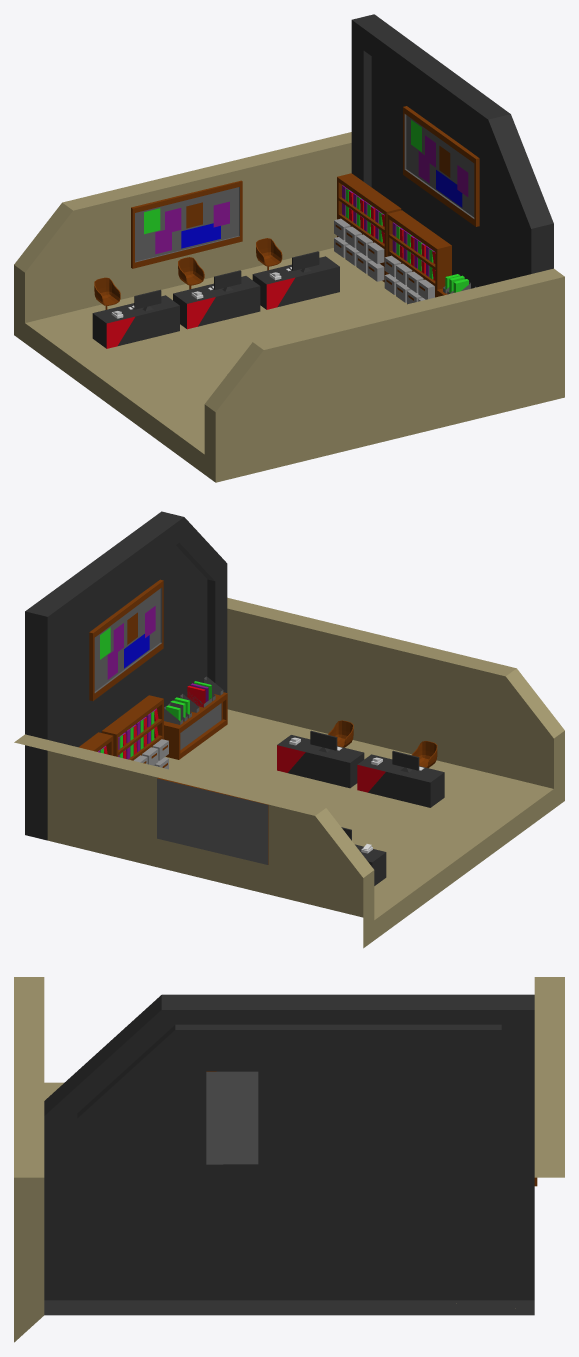
Rendered from Level5 Marketing.fbx.
The picture shows the model from 3 angles, top to bottom: view 1: azimuth 30°, elevation 25°; view 2: azimuth 150°, elevation 25°; view 3: azimuth 270°, elevation 25°; orthographic projection. The views are drawn at different scales.
Parts seen in each view (by area): view 1: Plane.008, Plane.009, Plane.010, Cube.023, Cube.017, Cube.025, Cube, Cube.015, Cube.027, Cube.028, Cube.029; view 2: Plane.008, Plane.009, Plane.010, Cube.030, Cube.031, Cube.032, Cube.023, Cube.025; view 3: Plane.008, Plane.010.
Boxes of the visible parts, x1,y1,x2,y2 form: Plane.008: (14,14,564,482); Plane.009: (131,180,242,268); Plane.010: (403,106,479,226); Cube.023: (384,210,451,304); Cube.017: (334,173,401,282); Cube.025: (92,289,179,348); Cube: (173,270,260,329); Cube.015: (252,251,339,309); Cube.027: (94,277,120,309); Cube.028: (178,257,204,289); Cube.029: (256,238,282,270); Plane.008: (14,511,564,948); Plane.009: (157,777,268,864); Plane.010: (89,579,163,700); Cube.030: (164,676,227,759); Cube.031: (357,750,444,807); Cube.032: (277,730,364,788); Cube.023: (101,695,168,769); Cube.025: (341,827,386,885); Plane.008: (14,977,564,1342); Plane.010: (206,1071,258,1164).
Bounding box in the file's own units: 7377 × 4920 × 7377.
